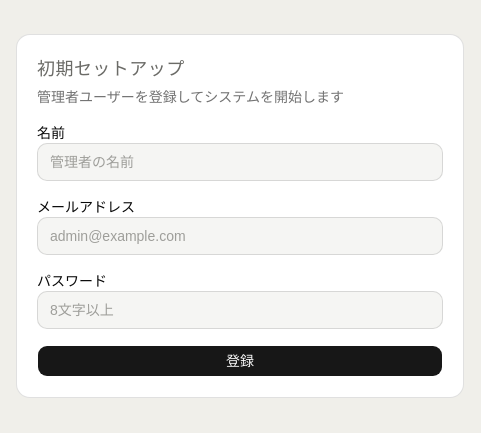
Test: SetupPage › clears validation error when user types
The width and height of the screenshot is (481, 433).
Click the button "登録": (240, 361) [37,345,443,377]
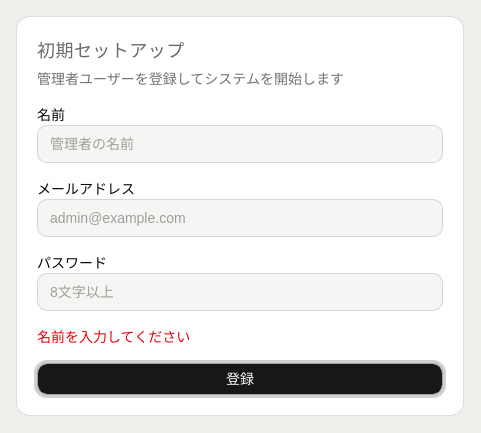
Check: the text "名前を入力してください" is shown, box [37,329,190,345]
In the field labelled "名前": (240, 144) [37,125,443,163], type "A"
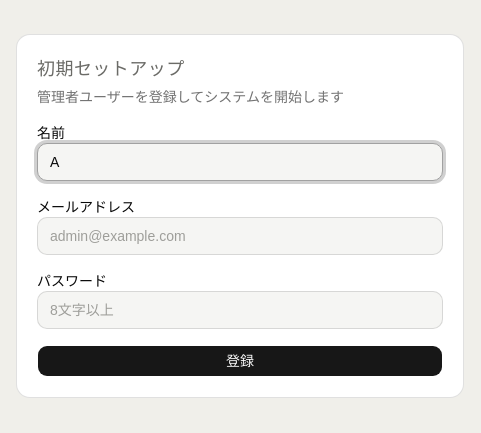
Check: the text "名前を入力してください" is gone
